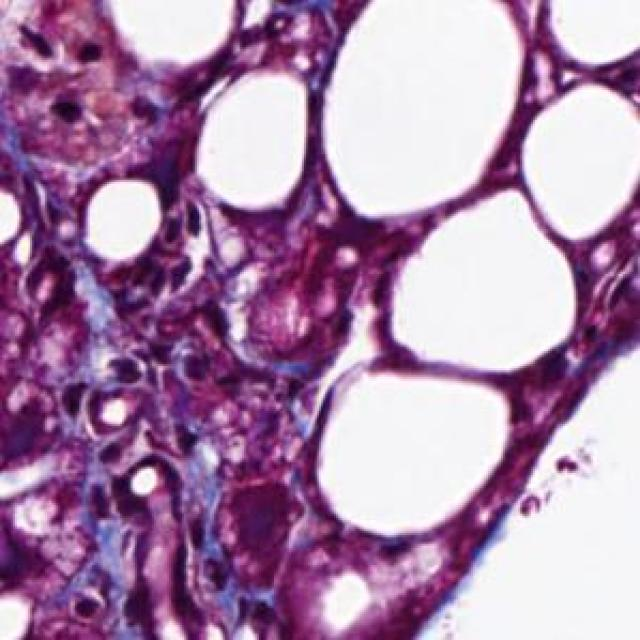inflammation: (85, 296, 242, 400), (2, 20, 129, 142)
